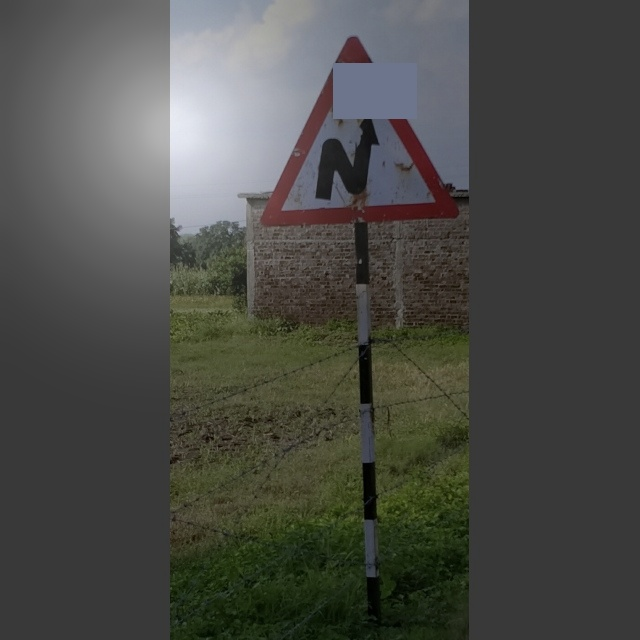Right_Reverse_Bend: (264, 36, 460, 223)
